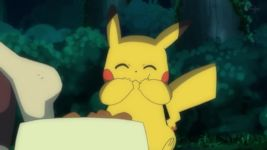pikachu: (93, 10, 219, 150)
